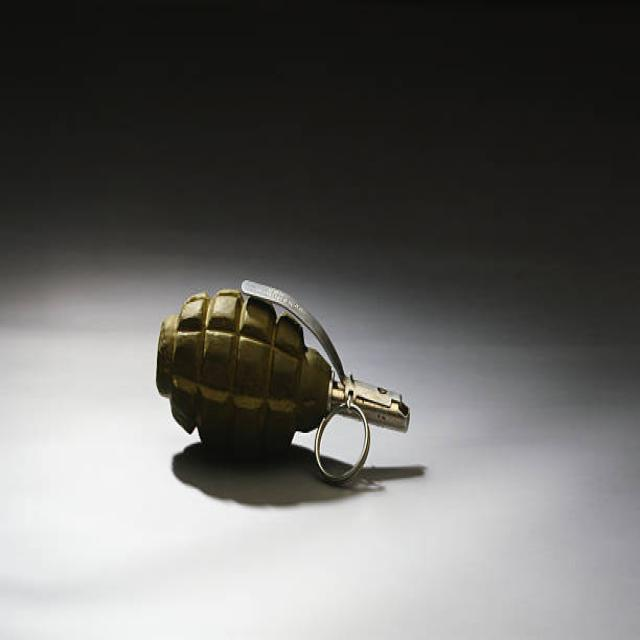grenade: (150, 276, 415, 492)
